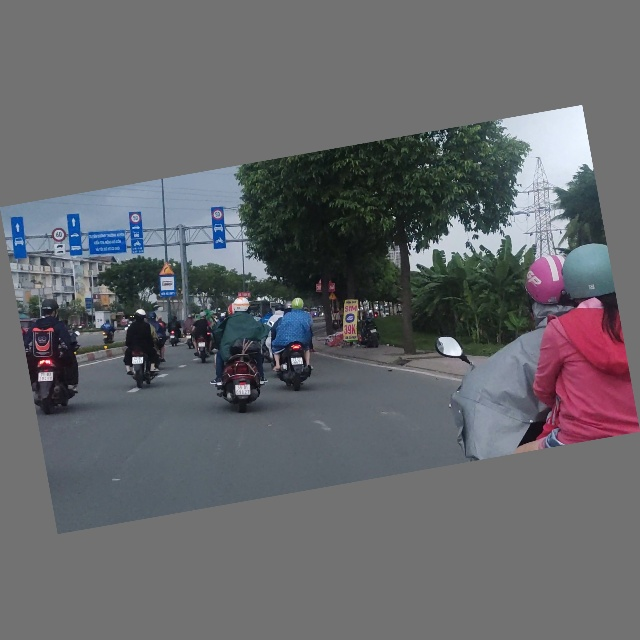I.434a: (157, 275, 178, 299)
P.127*50: (211, 209, 224, 222), (130, 212, 142, 225)
P.127*60: (51, 227, 67, 244)
S.505a*Xe tai va cong: (53, 243, 67, 257)
W.201b: (157, 262, 175, 278)
